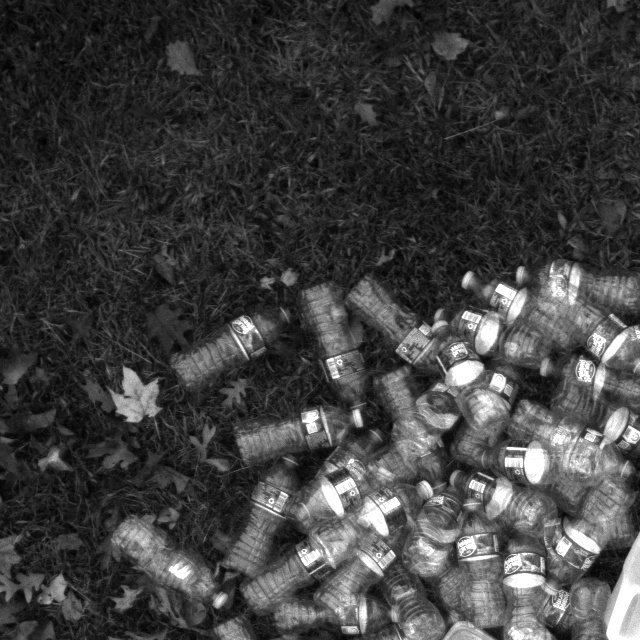bottle: (456, 262, 611, 354), (110, 513, 233, 623), (172, 293, 299, 395), (541, 469, 640, 598), (214, 451, 311, 579), (340, 273, 457, 377), (231, 395, 380, 476), (310, 520, 419, 628), (445, 350, 536, 477), (290, 281, 373, 419), (237, 530, 360, 623), (231, 530, 345, 628), (293, 444, 420, 530), (376, 352, 445, 487), (315, 479, 422, 565), (513, 403, 633, 478), (510, 250, 640, 315), (445, 464, 566, 533), (431, 301, 553, 368), (448, 507, 510, 632), (551, 377, 640, 462), (399, 489, 471, 590), (501, 522, 555, 640), (377, 561, 448, 640), (535, 359, 640, 407), (566, 570, 613, 639)
